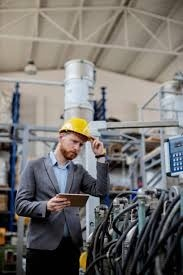helmet: (60, 118, 92, 137)
person with partial safety: (29, 117, 104, 275)
